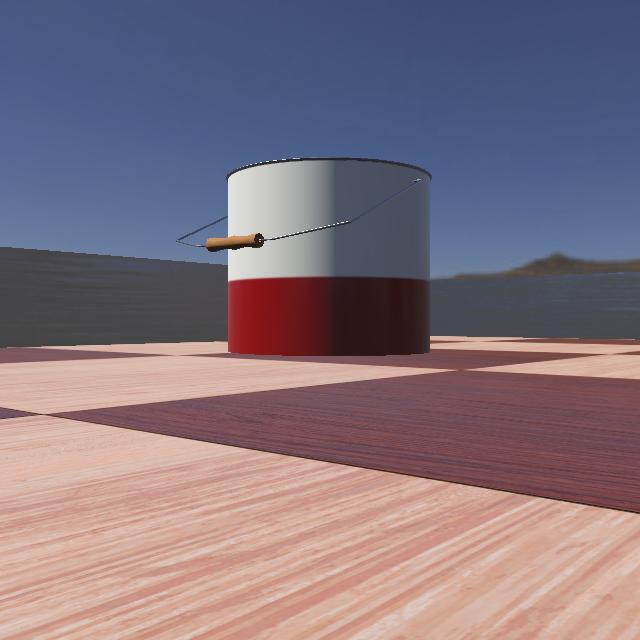paint-bucket: (140, 142, 460, 360)
